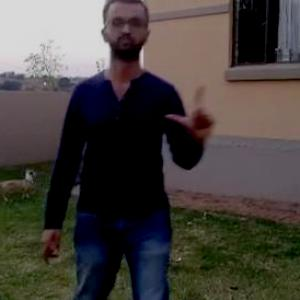land_hand: (162, 75, 221, 139)
